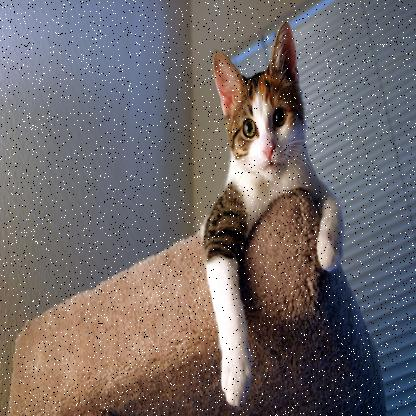cat: (201, 36, 348, 291)
